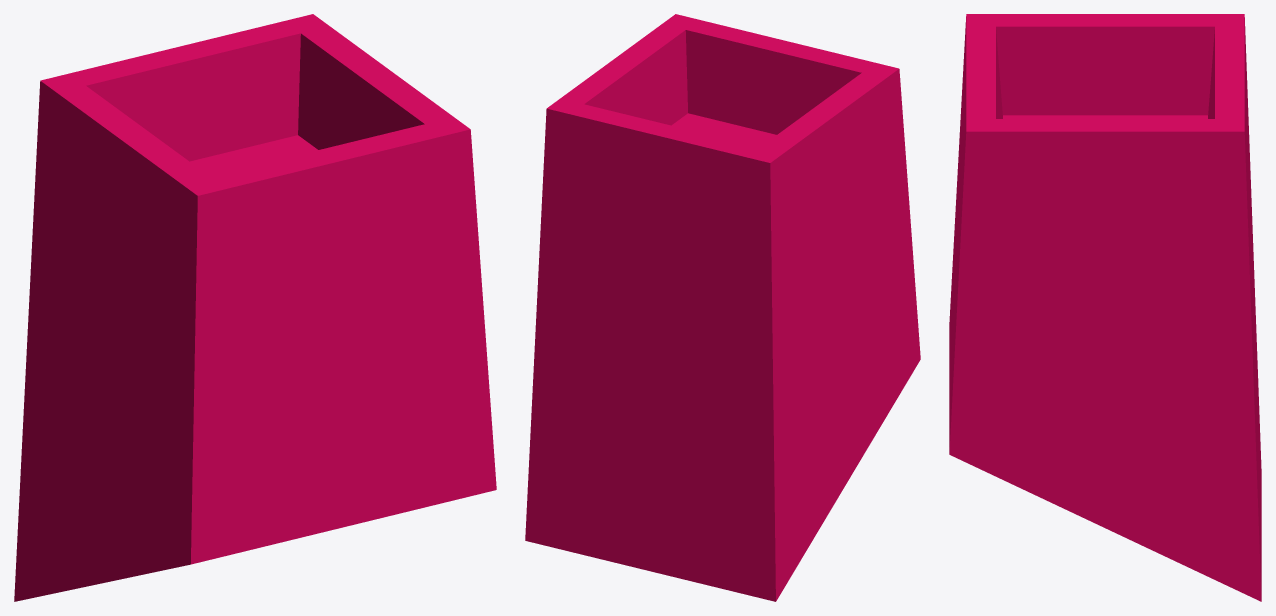
Rendered from Background_House_Flue_02.fbx.
3 renders of one model, left to right at view 1: azimuth 30°, elevation 25°; view 2: azimuth 150°, elevation 25°; view 3: azimuth 270°, elevation 25°, orthographic. The views are drawn at different scales.
Visible parts, largest first — view 1: Background_House_Flue_02; view 2: Background_House_Flue_02; view 3: Background_House_Flue_02.
Part boxes in pixels (left/top/right/bottom): Background_House_Flue_02: left=14, top=14, right=496, bottom=601; Background_House_Flue_02: left=525, top=14, right=920, bottom=601; Background_House_Flue_02: left=949, top=14, right=1261, bottom=601.
Size of the model in its own units: 117 by 192 by 117.
